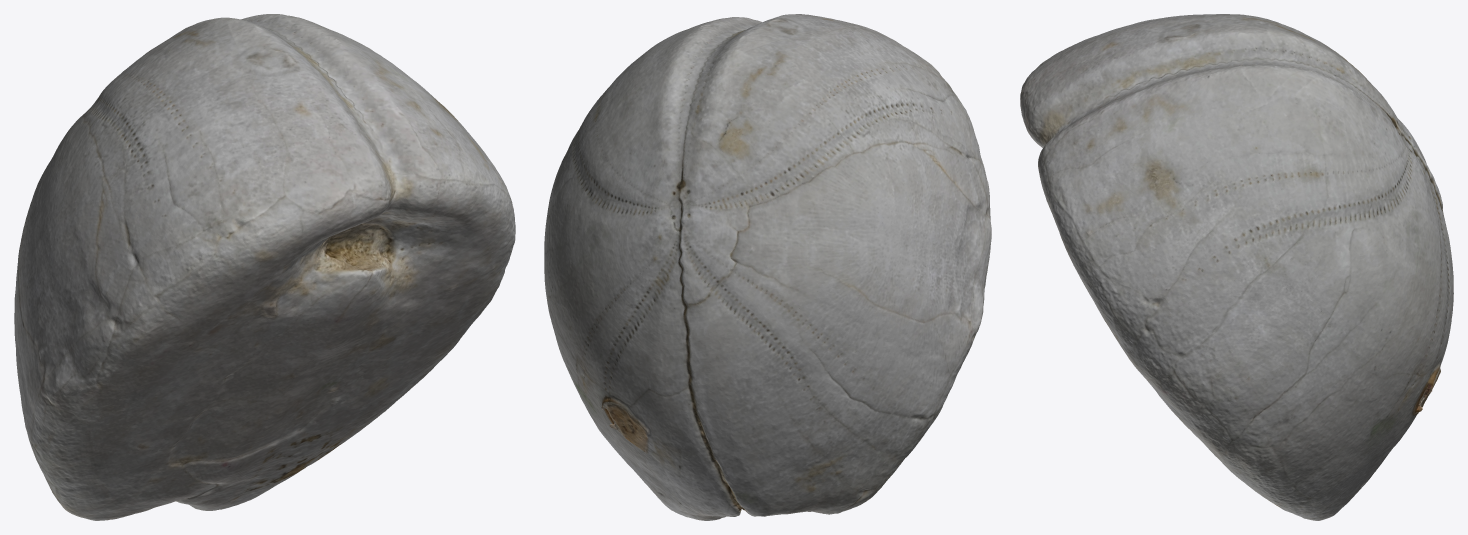
Rendered from MZUR3D-031.glb.
3 renders of one model, left to right at view 1: azimuth 30°, elevation 25°; view 2: azimuth 150°, elevation 25°; view 3: azimuth 270°, elevation 25°, orthographic. The views are drawn at different scales.
Parts seen in each view (by area): view 1: MZUR3D-031; view 2: MZUR3D-031; view 3: MZUR3D-031.
Boxes of the visible parts, box(x1,y1,x2,y2) form: MZUR3D-031: box(14, 14, 515, 520); MZUR3D-031: box(544, 14, 991, 520); MZUR3D-031: box(1020, 14, 1453, 520).
Size of the model in its own units: 0.7284 by 0.7971 by 0.6565.
1 material, 1 textured.
